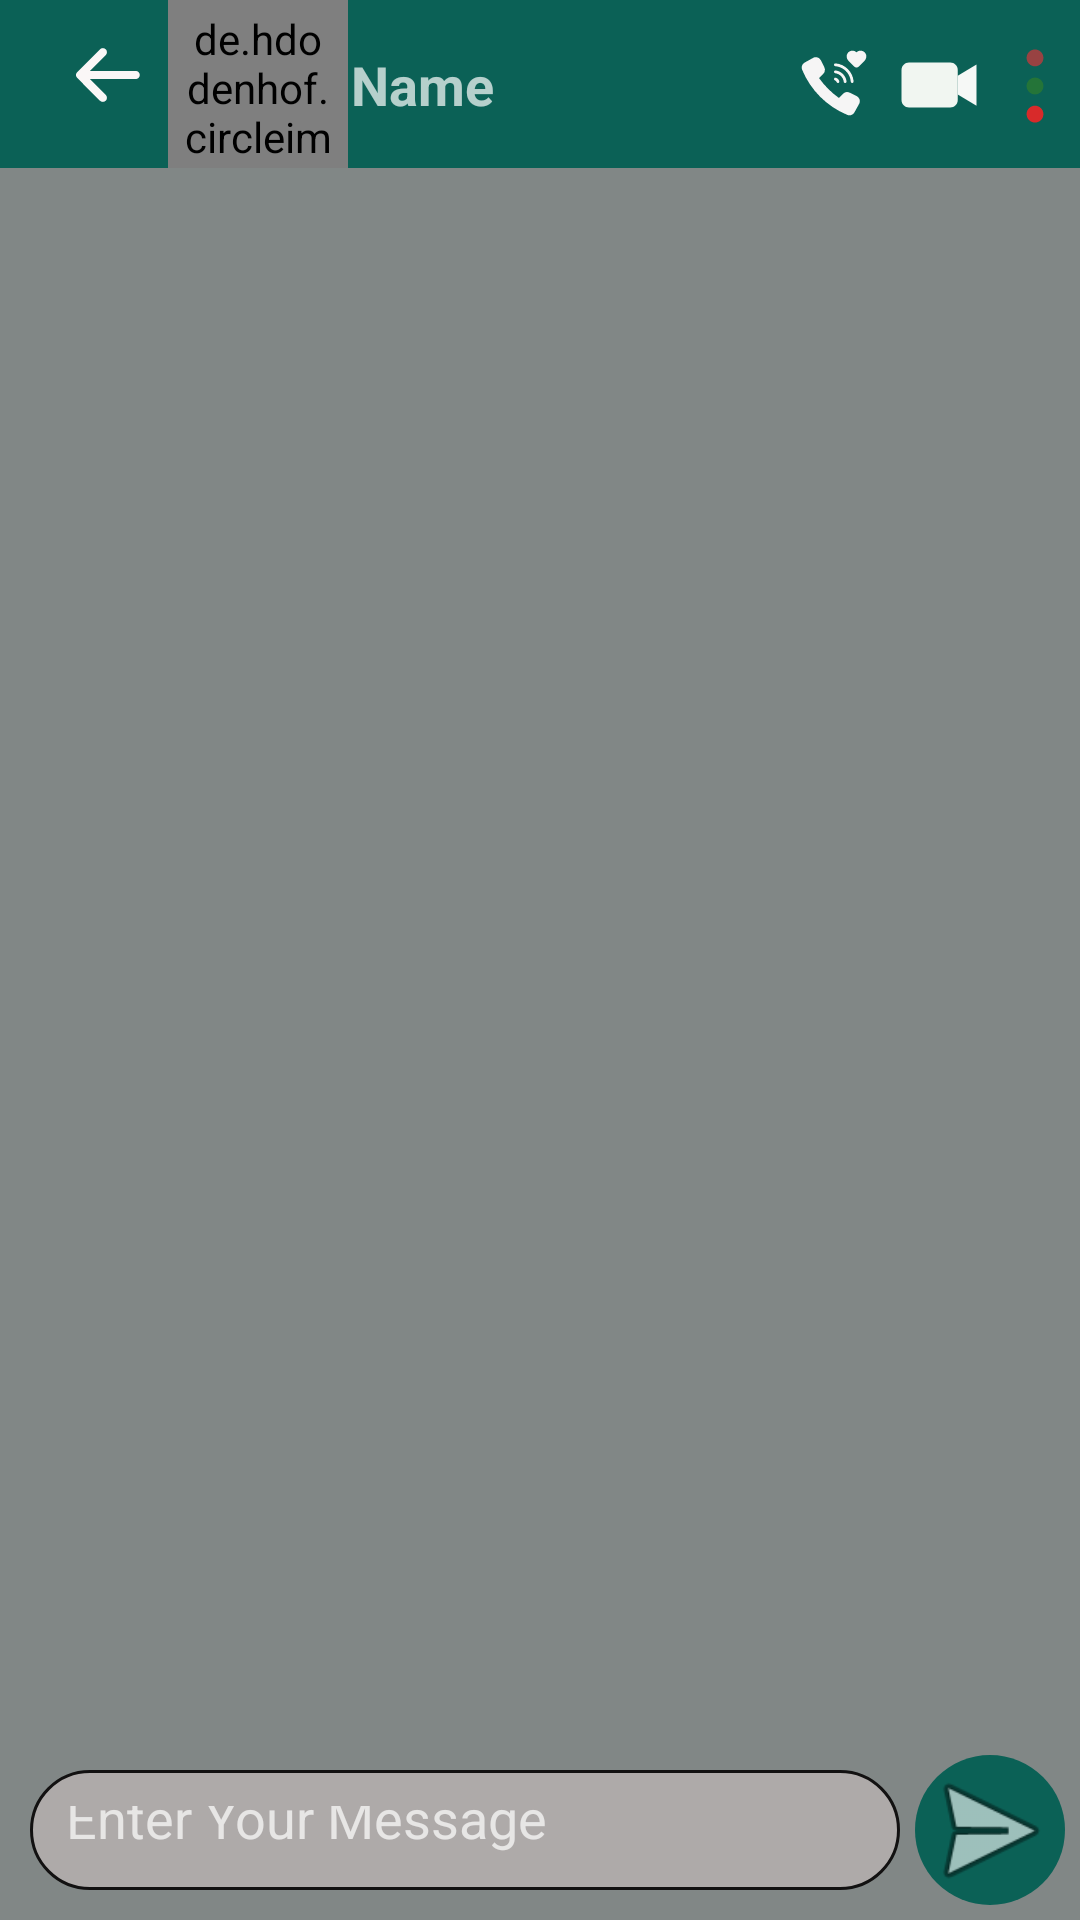

Icon click points for this 1080 × 1920 phone screenshot, format (x,y):
back: (108,75)
call: (834,83)
dot menu more: (1035,86)
send: (990,1830)
video call: (939,85)
